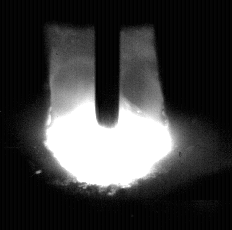arame: (96, 0, 121, 128)
poca: (46, 0, 172, 230)
